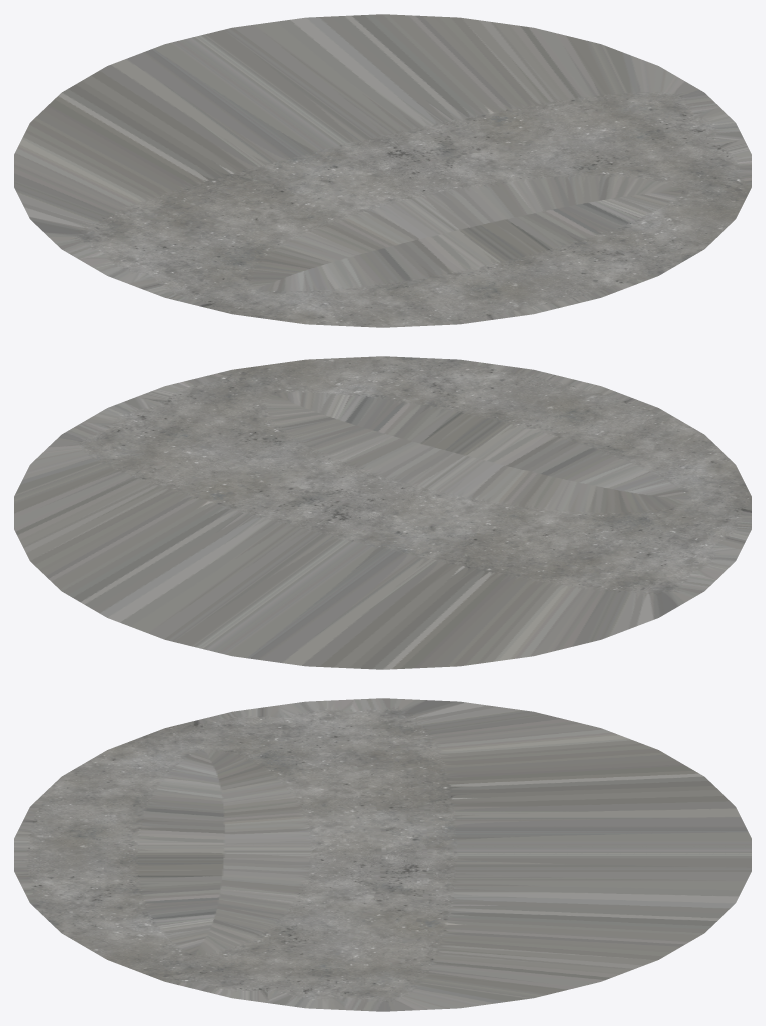
The model's file is sandRIng.gltf.
The picture shows the model from 3 angles, top to bottom: view 1: azimuth 30°, elevation 25°; view 2: azimuth 150°, elevation 25°; view 3: azimuth 270°, elevation 25°; orthographic projection.
Parts seen in each view (by area): view 1: floor; view 2: floor; view 3: floor.
Part boxes in pixels (x1,y1,x2,y2): floor: (14,14,751,327); floor: (14,356,751,669); floor: (14,698,751,1011).
Bounding box in the file's own units: 694 × 0 × 690.
